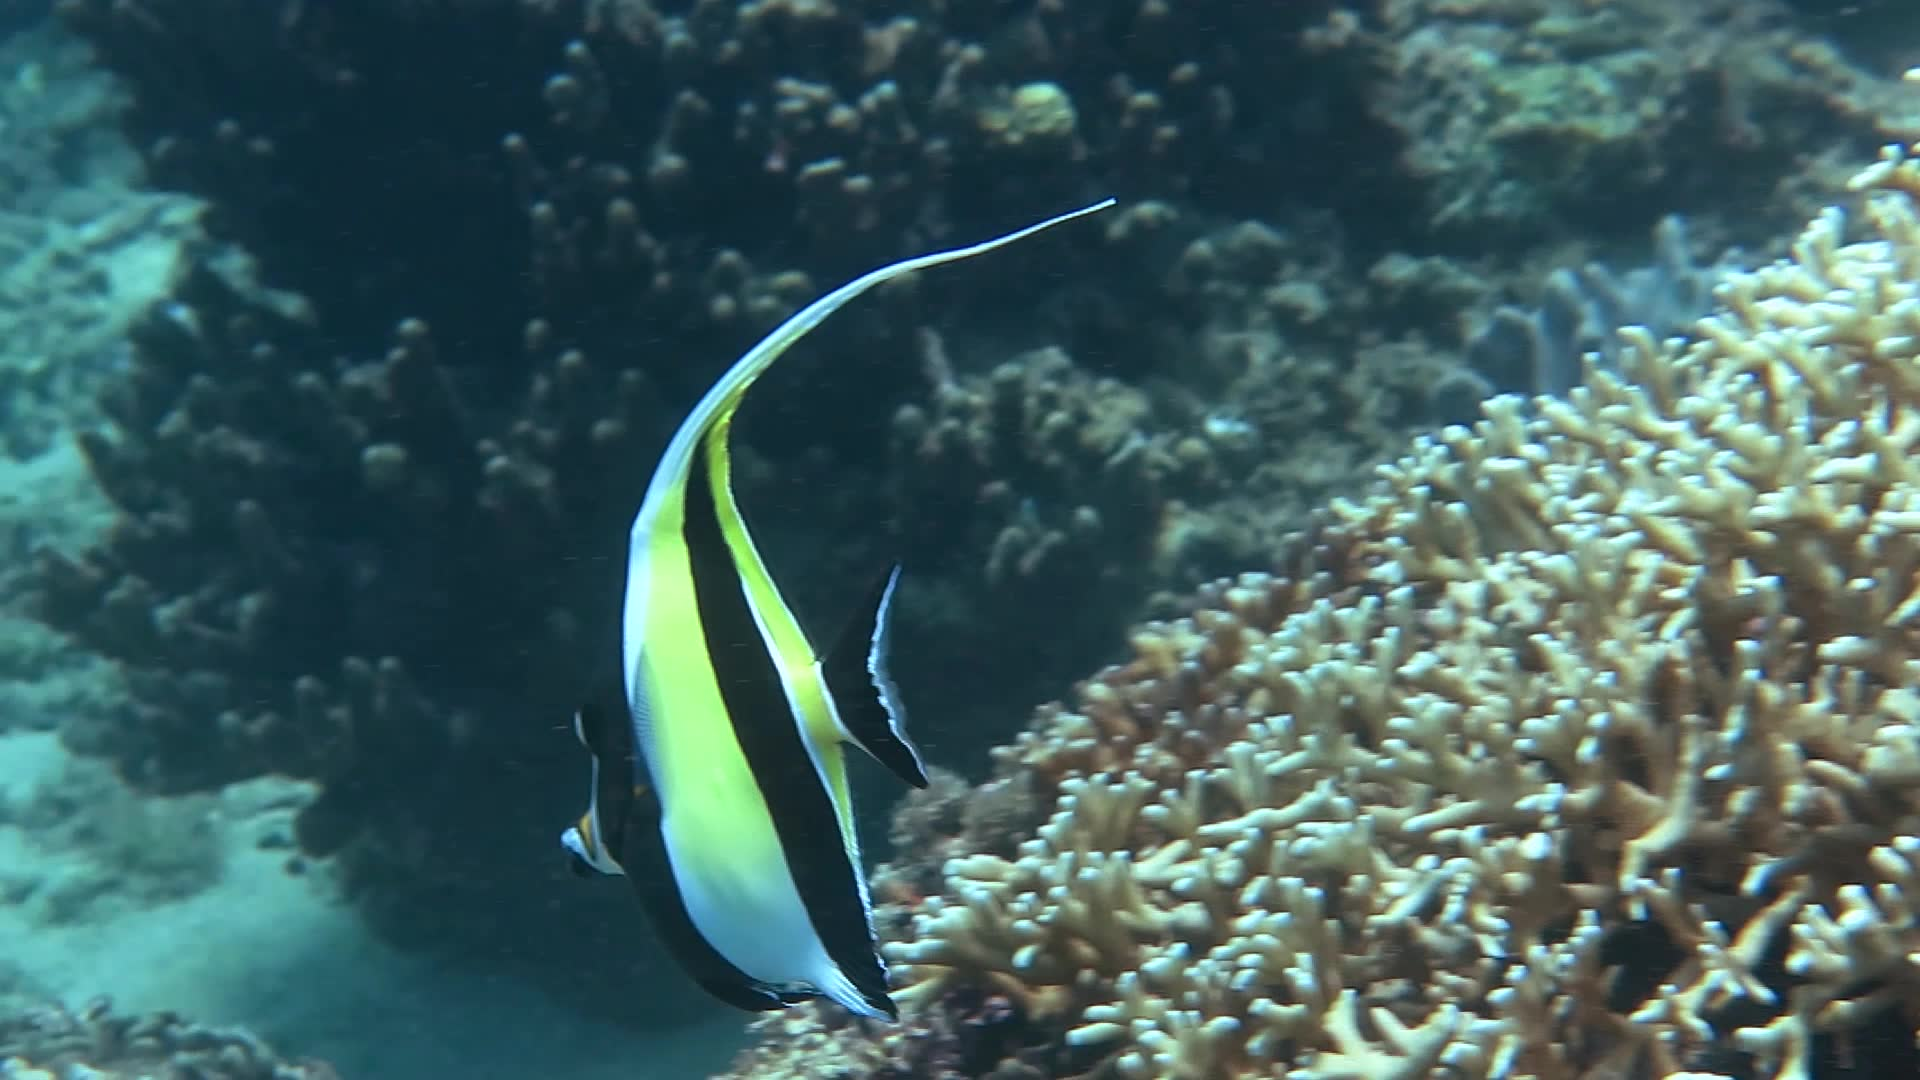Zanclus cornutus: (524, 393, 936, 1058)
